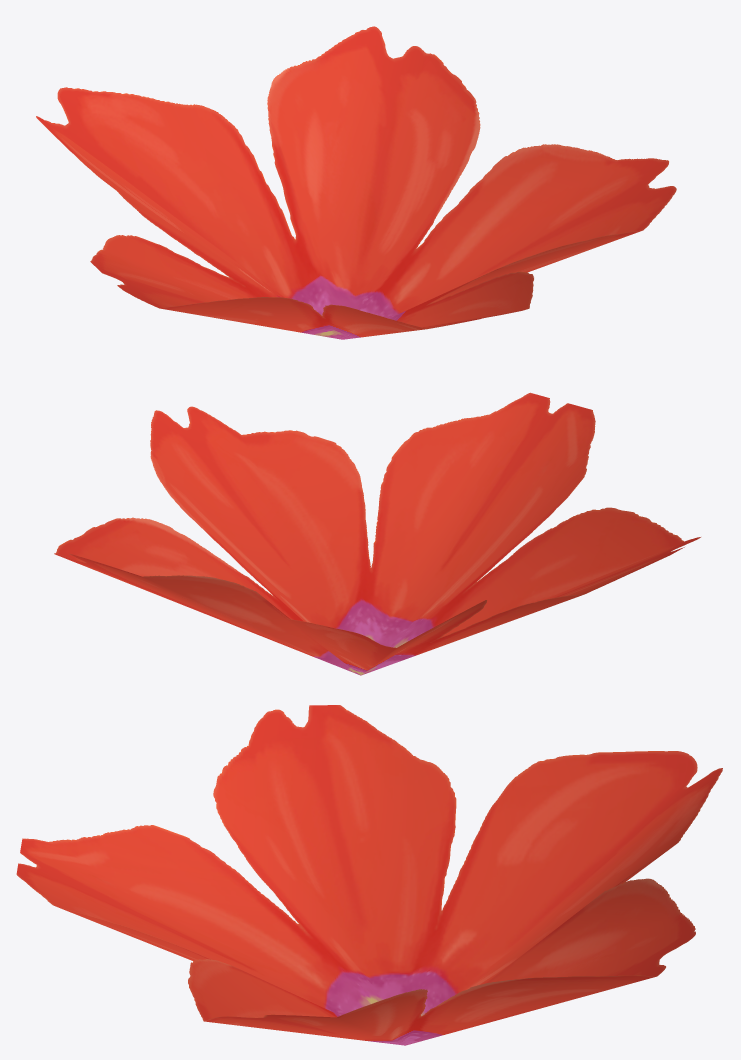
File: Petal_3.glb
The picture shows the model from 3 angles, top to bottom: view 1: azimuth 30°, elevation 25°; view 2: azimuth 150°, elevation 25°; view 3: azimuth 270°, elevation 25°; orthographic projection. The views are drawn at different scales.
Parts seen in each view (by area): view 1: Petal_3; view 2: Petal_3; view 3: Petal_3.
Boxes of the visible parts, bbox=[...] form: Petal_3: bbox=[36, 26, 676, 339]; Petal_3: bbox=[54, 392, 700, 675]; Petal_3: bbox=[16, 705, 722, 1045].
Bounding box in the file's own units: 0.6195 × 0.1895 × 0.6064.
1 material, 1 textured.
